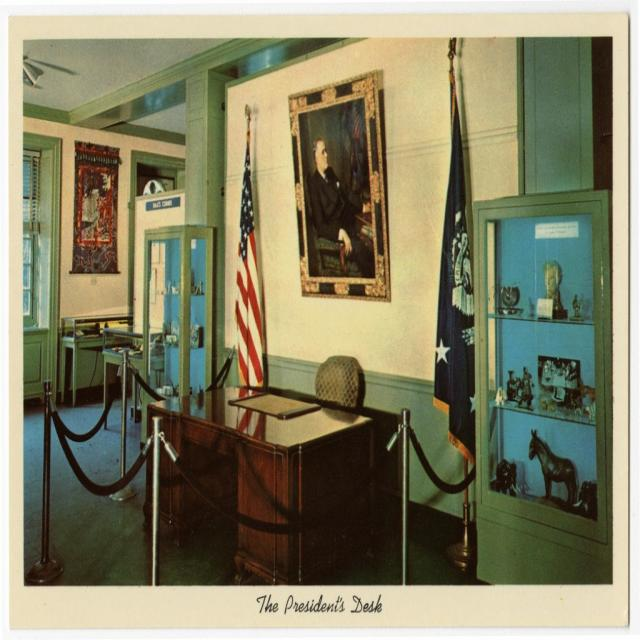desk: (150, 408, 371, 578)
